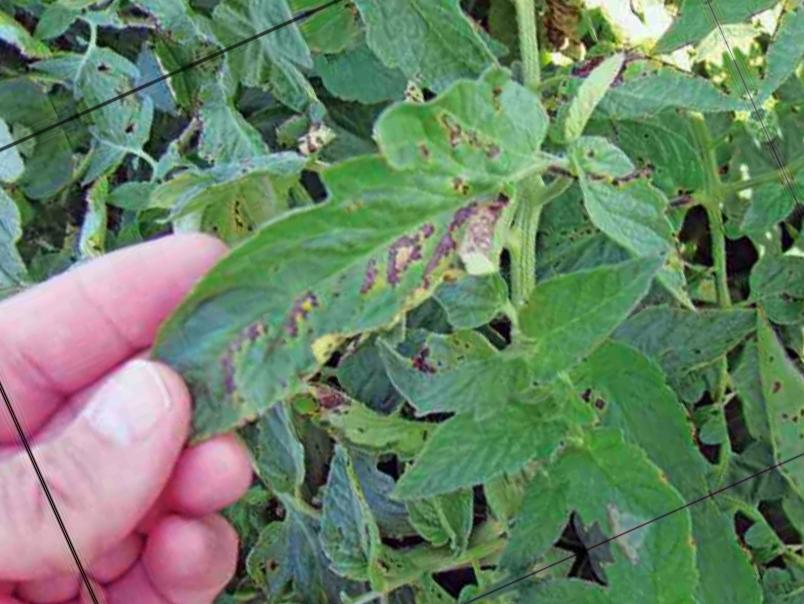Tomato Early blight leaf: (103, 37, 629, 441)
Tomato leaf: (493, 229, 704, 389), (377, 394, 552, 517), (473, 460, 601, 579)
